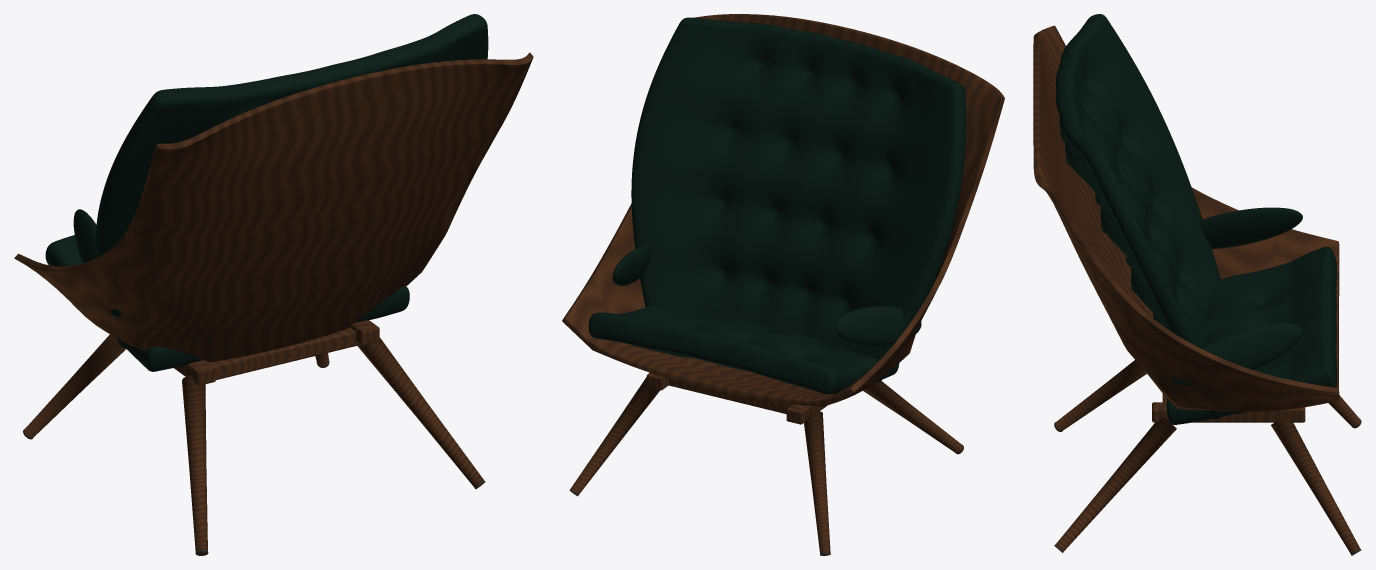
File: emerald_lounge_armchair.glb
3 views of the same model, side by side, from view 1: azimuth 30°, elevation 25°; view 2: azimuth 150°, elevation 25°; view 3: azimuth 270°, elevation 25° (orthographic). The views are drawn at different scales.
Visible parts, largest first — view 1: Molded_Wood_Shell, Backrest_Cushion, Chassis_Frame, Leg_Rear_Left, Leg_Rear_Right, Seat_Cushion, Leg_Front_Right, Armrest_Pad_Right; view 2: Backrest_Cushion, Molded_Wood_Shell, Seat_Cushion, Armrest_Pad_Right, Leg_Front_Right, Leg_Front_Left, Chassis_Frame, Leg_Rear_Right, Armrest_Pad_Left; view 3: Backrest_Cushion, Molded_Wood_Shell, Seat_Cushion, Armrest_Pad_Right, Armrest_Pad_Left, Leg_Rear_Left, Leg_Front_Left, Leg_Rear_Right, Chassis_Frame, Leg_Front_Right.
Boxes of the visible parts, bbox=[...] form: Molded_Wood_Shell: bbox=[14, 52, 533, 362]; Backrest_Cushion: bbox=[95, 14, 488, 348]; Chassis_Frame: bbox=[174, 320, 379, 385]; Leg_Rear_Left: bbox=[357, 337, 484, 488]; Leg_Rear_Right: bbox=[182, 375, 207, 555]; Seat_Cushion: bbox=[45, 235, 409, 371]; Leg_Front_Right: bbox=[24, 334, 125, 437]; Armrest_Pad_Right: bbox=[73, 209, 121, 316]; Backrest_Cushion: bbox=[631, 17, 966, 382]; Molded_Wood_Shell: bbox=[562, 14, 1004, 406]; Seat_Cushion: bbox=[588, 305, 899, 394]; Armrest_Pad_Right: bbox=[835, 306, 921, 345]; Leg_Front_Right: bbox=[804, 411, 830, 555]; Leg_Front_Left: bbox=[570, 372, 659, 494]; Chassis_Frame: bbox=[646, 372, 827, 424]; Leg_Rear_Right: bbox=[863, 381, 962, 453]; Armrest_Pad_Left: bbox=[612, 246, 650, 285]; Backrest_Cushion: bbox=[1056, 14, 1222, 419]; Molded_Wood_Shell: bbox=[1033, 25, 1339, 411]; Seat_Cushion: bbox=[1166, 246, 1336, 424]; Armrest_Pad_Right: bbox=[1199, 207, 1302, 248]; Armrest_Pad_Left: bbox=[1171, 323, 1302, 385]; Leg_Rear_Left: bbox=[1055, 417, 1176, 551]; Leg_Front_Left: bbox=[1271, 415, 1360, 554]; Leg_Rear_Right: bbox=[1055, 360, 1146, 430]; Chassis_Frame: bbox=[1152, 394, 1305, 422]; Leg_Front_Right: bbox=[1328, 395, 1360, 427].
Size of the model in its own units: 0.7705 by 0.8907 by 0.6473.
Materials: 4 (3 with a texture image).
